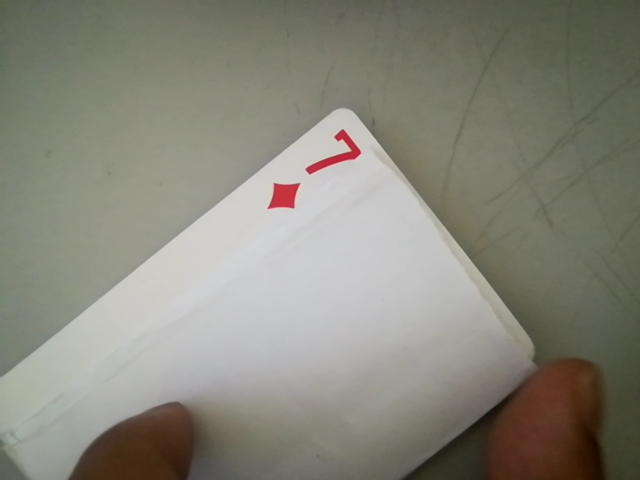fk 7: (253, 125, 376, 216)
